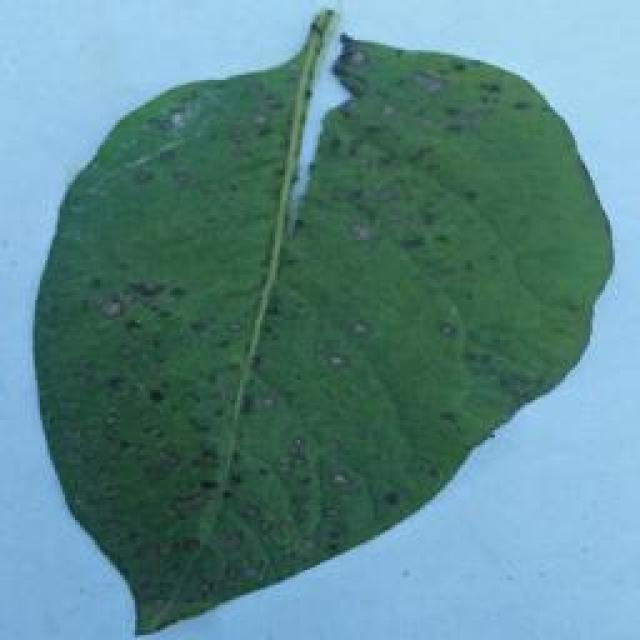Potato_Early_Blight: (28, 11, 617, 626)
